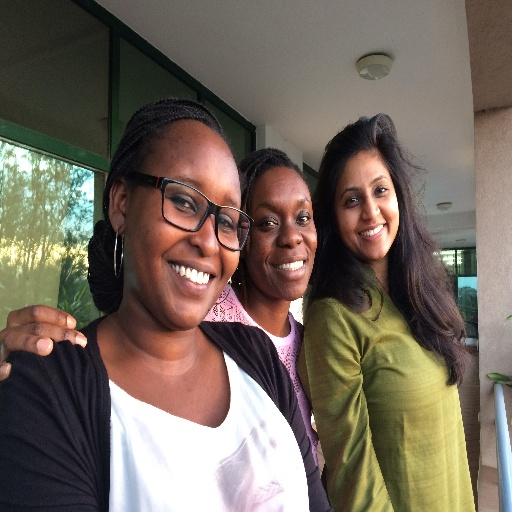hand: (0, 302, 88, 382)
